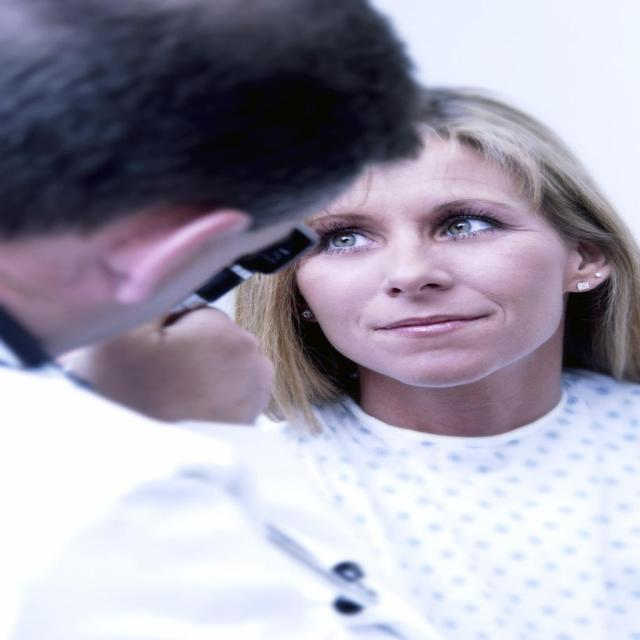nomask: (298, 149, 563, 383)
